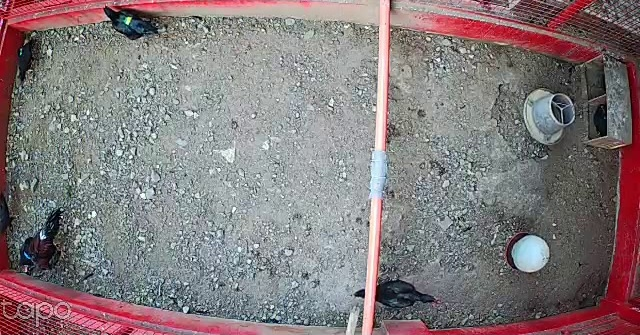Chicken: (355, 272, 443, 313), (103, 5, 157, 40), (14, 33, 42, 87)
Rooster: (24, 204, 68, 279)
Saddle_Color_YellowGreen: (123, 16, 133, 28)
